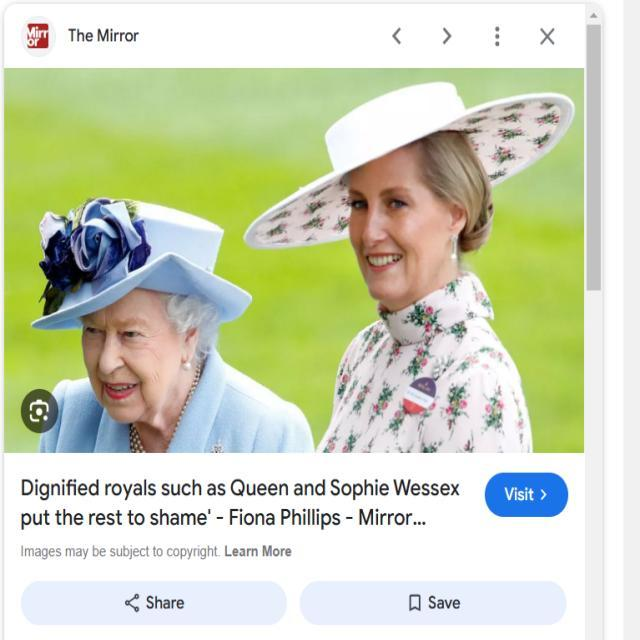face_no_mask: (343, 158, 467, 295), (82, 297, 195, 421)
